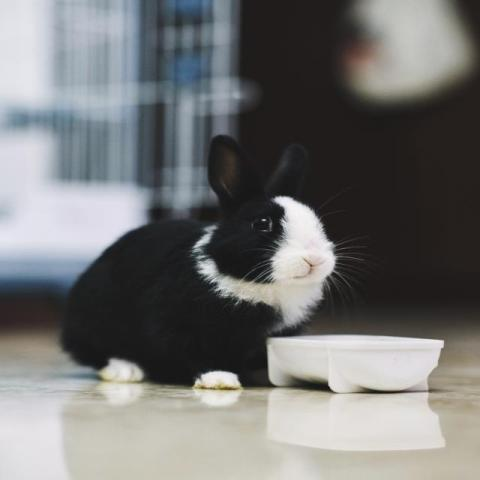small_animal: (58, 132, 364, 391)
